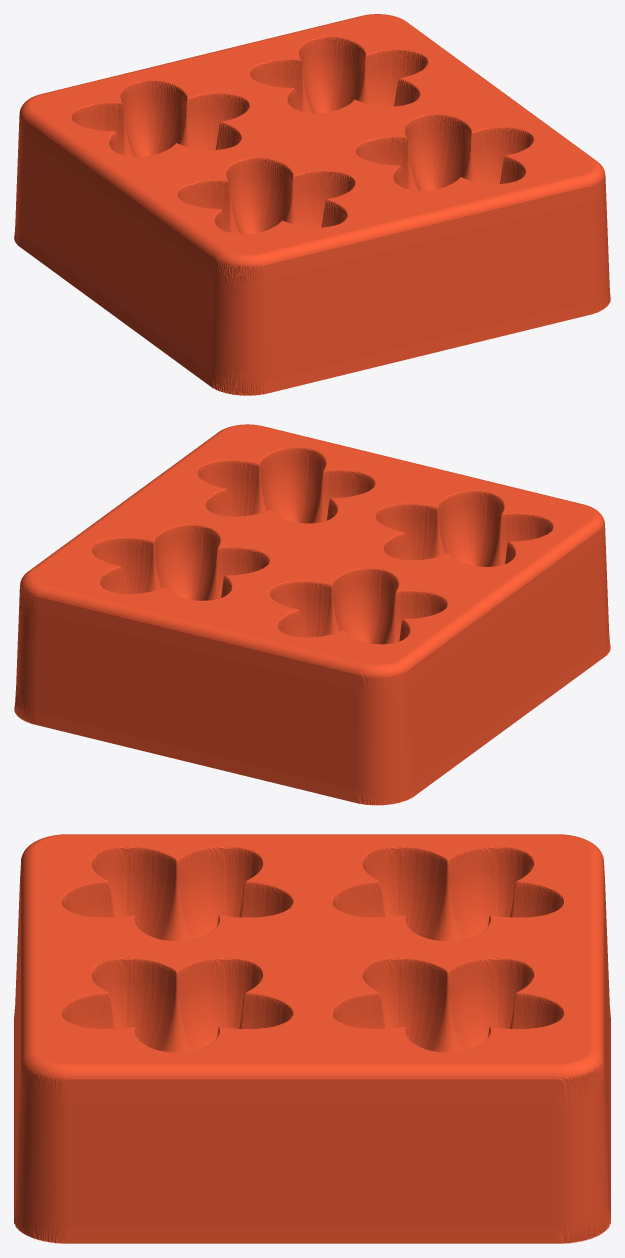
The model's file is mold.glb.
3 views of the same model, one above another, from view 1: azimuth 30°, elevation 25°; view 2: azimuth 150°, elevation 25°; view 3: azimuth 270°, elevation 25° (orthographic). The views are drawn at different scales.
Visible parts, largest first — view 1: geometry_0; view 2: geometry_0; view 3: geometry_0.
Part boxes in pixels (x1=…): geometry_0: x1=14, y1=14, x2=610, y2=395; geometry_0: x1=14, y1=424, x2=610, y2=805; geometry_0: x1=14, y1=834, x2=610, y2=1243.
Bounding box in the file's own units: 0.0968 × 0.0314 × 0.0992.
